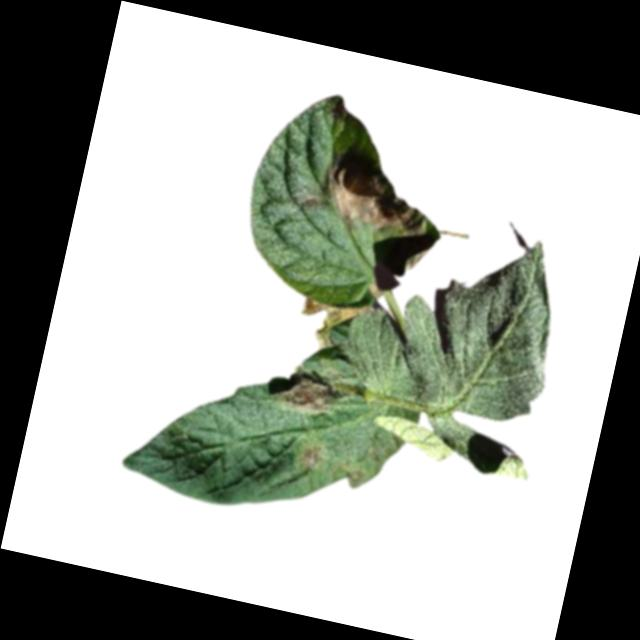Late_blight: (315, 154, 434, 244), (293, 290, 377, 357), (272, 366, 341, 420), (295, 439, 326, 471)
healthy: (336, 207, 576, 434)
